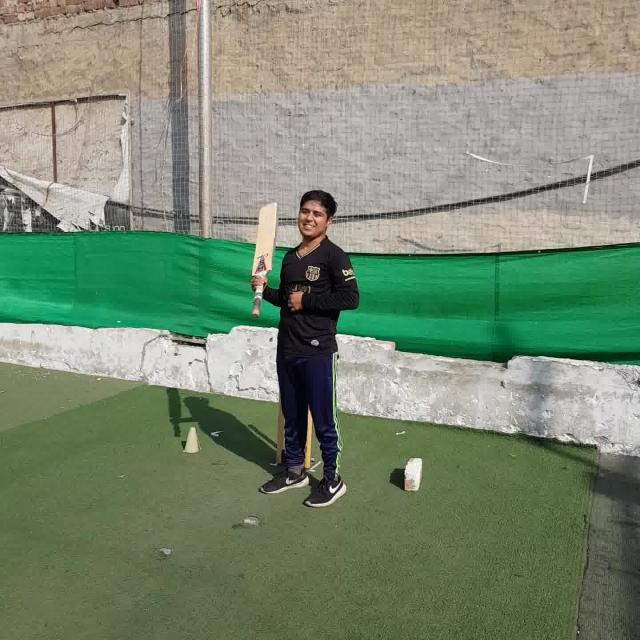bat: (250, 202, 278, 316)
